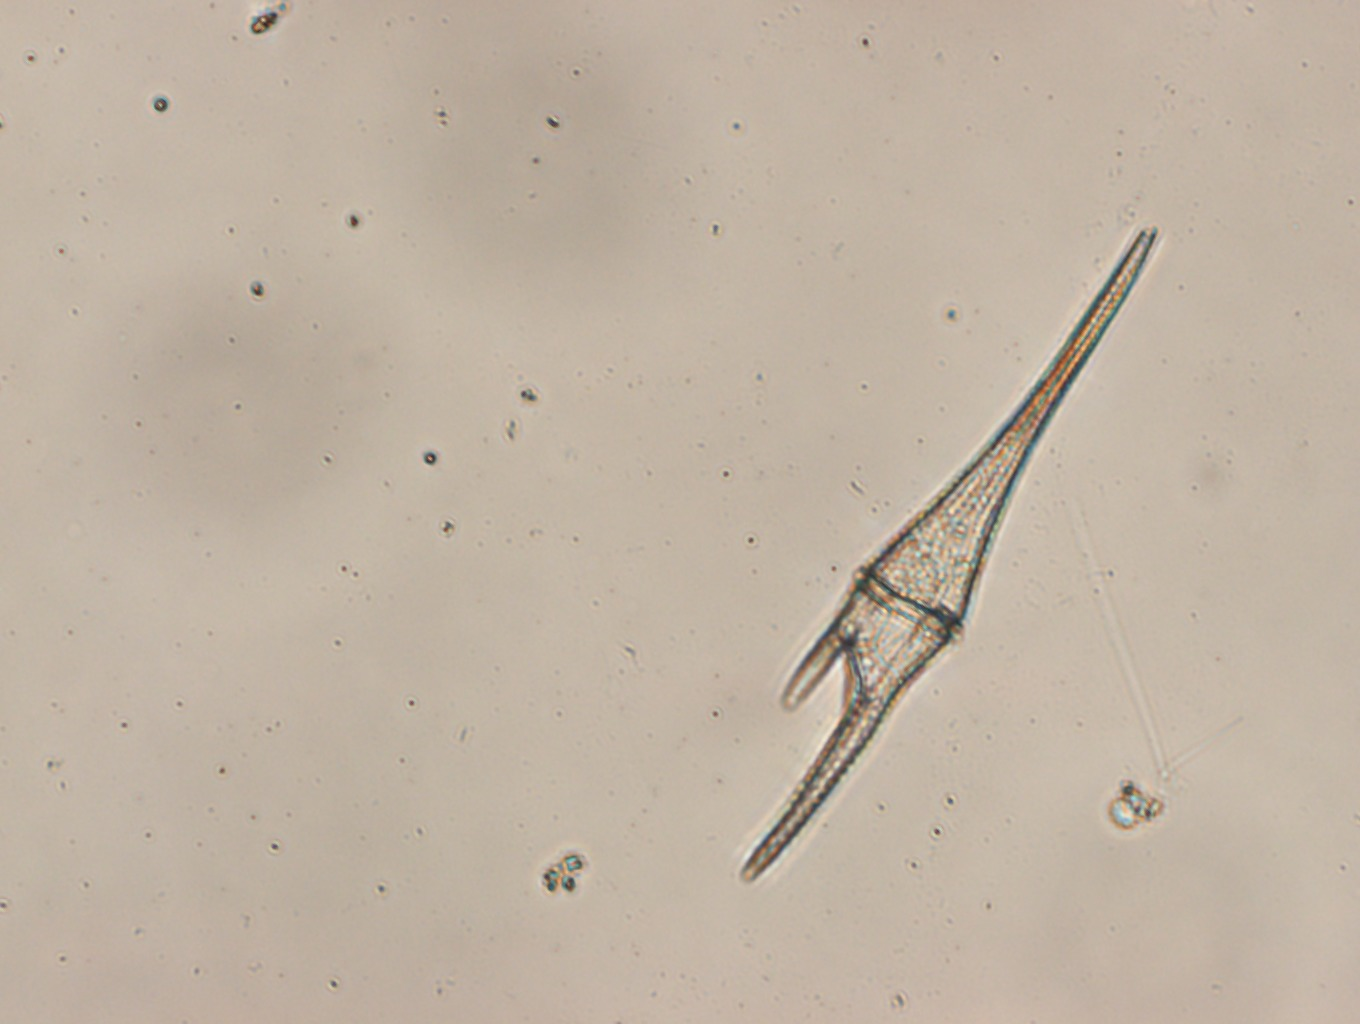ceratium furca: (733, 219, 1165, 891)
